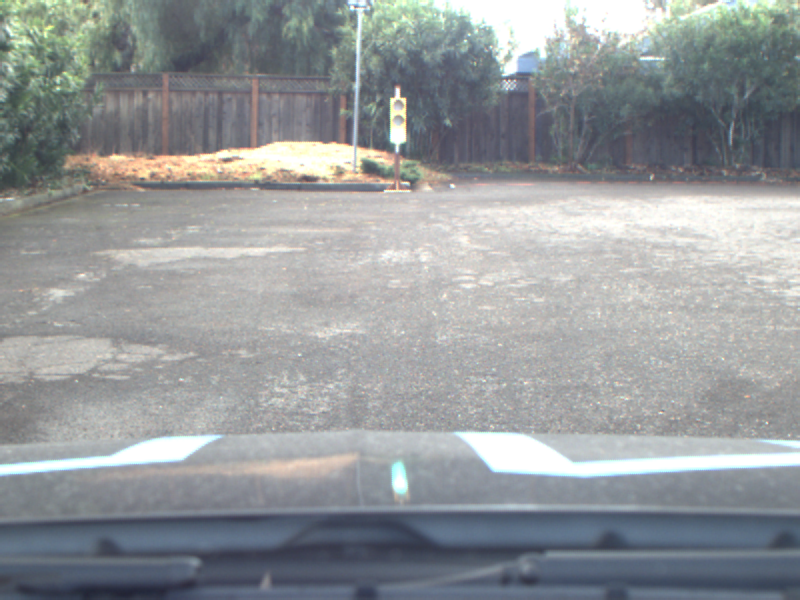Green: (387, 96, 407, 145)
